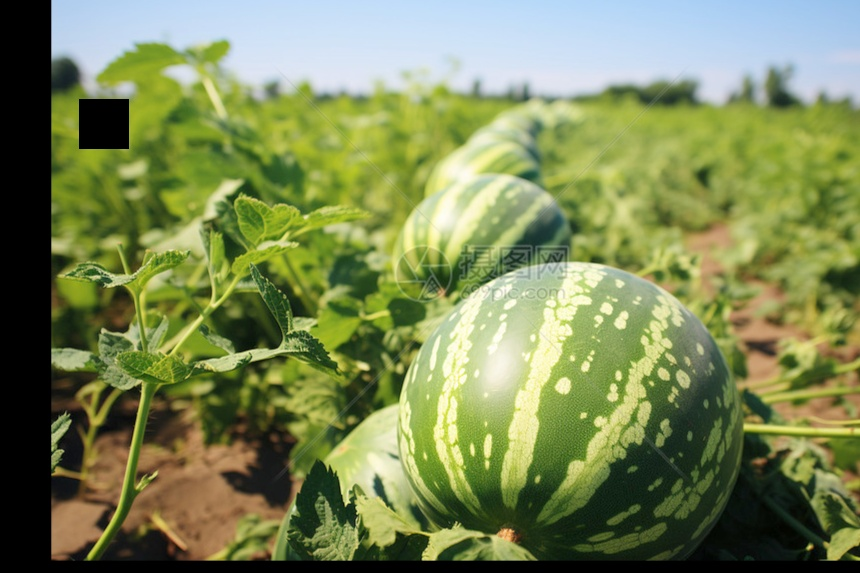watermelon: (394, 259, 735, 552), (396, 171, 568, 303)
